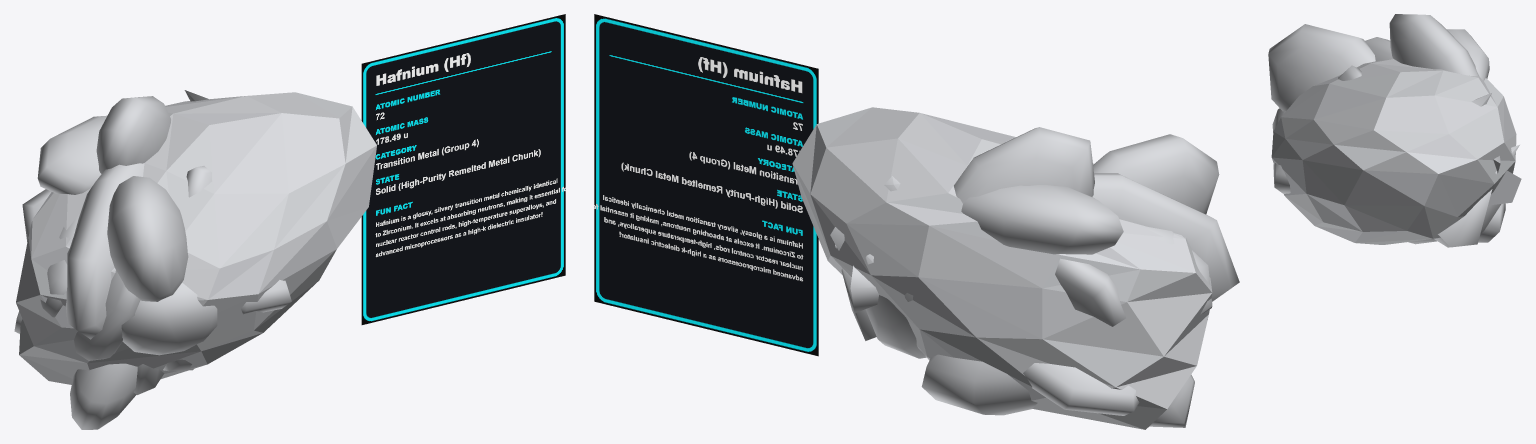
File: hafnium.glb
3 renders of one model, left to right at view 1: azimuth 30°, elevation 25°; view 2: azimuth 150°, elevation 25°; view 3: azimuth 270°, elevation 25°, orthographic. The views are drawn at different scales.
Parts seen in each view (by area): view 1: Mesh_47, Mesh_0, Mesh_7, Mesh_19, Mesh_22, Mesh_4, Mesh_23, Mesh_1, Mesh_3, Mesh_10, Mesh_14, Mesh_11 (+2 smaller); view 2: Mesh_47, Mesh_0, Mesh_23, Mesh_4, Mesh_19, Mesh_7, Mesh_15, Mesh_13, Mesh_8, Mesh_20, Mesh_1, Mesh_31 (+2 smaller); view 3: Mesh_0, Mesh_7, Mesh_4, Mesh_32, Mesh_23, Mesh_31, Mesh_15, Mesh_19, Mesh_14, Mesh_20.
Part boxes in pixels (x1,y1,x2,y2): Mesh_47: [361, 14, 565, 324]; Mesh_0: [16, 92, 376, 384]; Mesh_7: [107, 176, 188, 301]; Mesh_19: [65, 163, 144, 339]; Mesh_22: [121, 283, 217, 355]; Mesh_4: [96, 96, 170, 173]; Mesh_23: [37, 115, 106, 194]; Mesh_1: [70, 363, 137, 429]; Mesh_3: [74, 270, 140, 360]; Mesh_10: [40, 214, 78, 317]; Mesh_14: [241, 280, 291, 314]; Mesh_11: [133, 364, 164, 394]; Mesh_47: [594, 14, 818, 356]; Mesh_0: [792, 107, 1212, 429]; Mesh_23: [961, 185, 1123, 254]; Mesh_4: [954, 127, 1094, 203]; Mesh_19: [1092, 173, 1239, 301]; Mesh_7: [1093, 134, 1219, 214]; Mesh_15: [921, 354, 1037, 415]; Mesh_13: [1023, 363, 1139, 415]; Mesh_8: [1055, 258, 1125, 326]; Mesh_20: [865, 293, 926, 358]; Mesh_1: [1149, 374, 1194, 427]; Mesh_31: [850, 265, 878, 312]; Mesh_0: [1271, 59, 1516, 244]; Mesh_7: [1268, 24, 1375, 111]; Mesh_4: [1389, 14, 1479, 76]; Mesh_32: [1438, 171, 1496, 247]; Mesh_23: [1447, 29, 1489, 80]; Mesh_31: [1488, 170, 1521, 205]; Mesh_15: [1478, 203, 1505, 242]; Mesh_19: [1365, 37, 1393, 61]; Mesh_14: [1273, 163, 1290, 193]; Mesh_20: [1434, 204, 1501, 247].
Size of the model in its own units: 3.04 by 1.5 by 1.4.
Materials: 2 (1 with a texture image).
